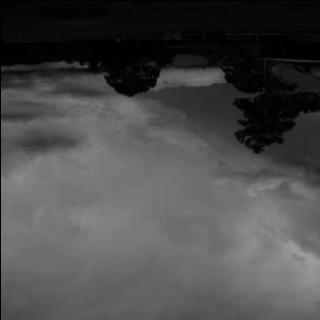Cumulonimbus: (0, 56, 320, 320)
